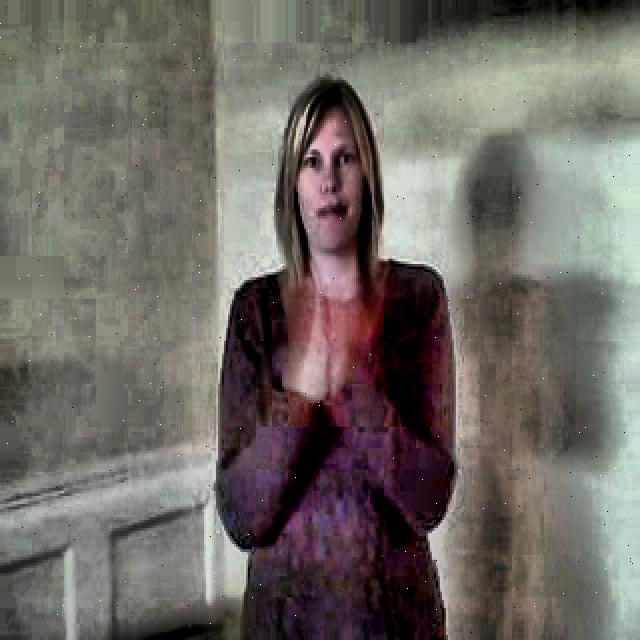F: (192, 65, 475, 640)
